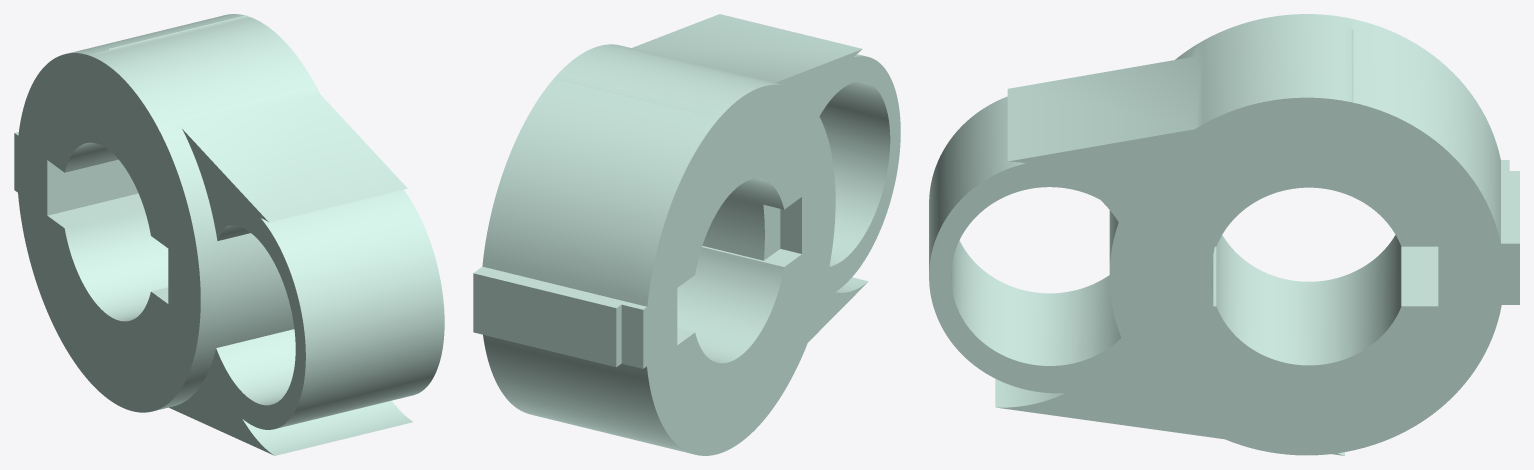
3 views of the same model, side by side, from view 1: azimuth 30°, elevation 25°; view 2: azimuth 150°, elevation 25°; view 3: azimuth 270°, elevation 25° (orthographic). The views are drawn at different scales.
Visible parts, largest first — view 1: Renderer Node; view 2: Renderer Node; view 3: Renderer Node.
Part boxes in pixels (x1=…): Renderer Node: x1=14, y1=14, x2=444, y2=455; Renderer Node: x1=473, y1=14, x2=900, y2=455; Renderer Node: x1=929, y1=14, x2=1519, y2=455.
Bounding box in the file's own units: 0.2969 × 0.5929 × 0.886.
